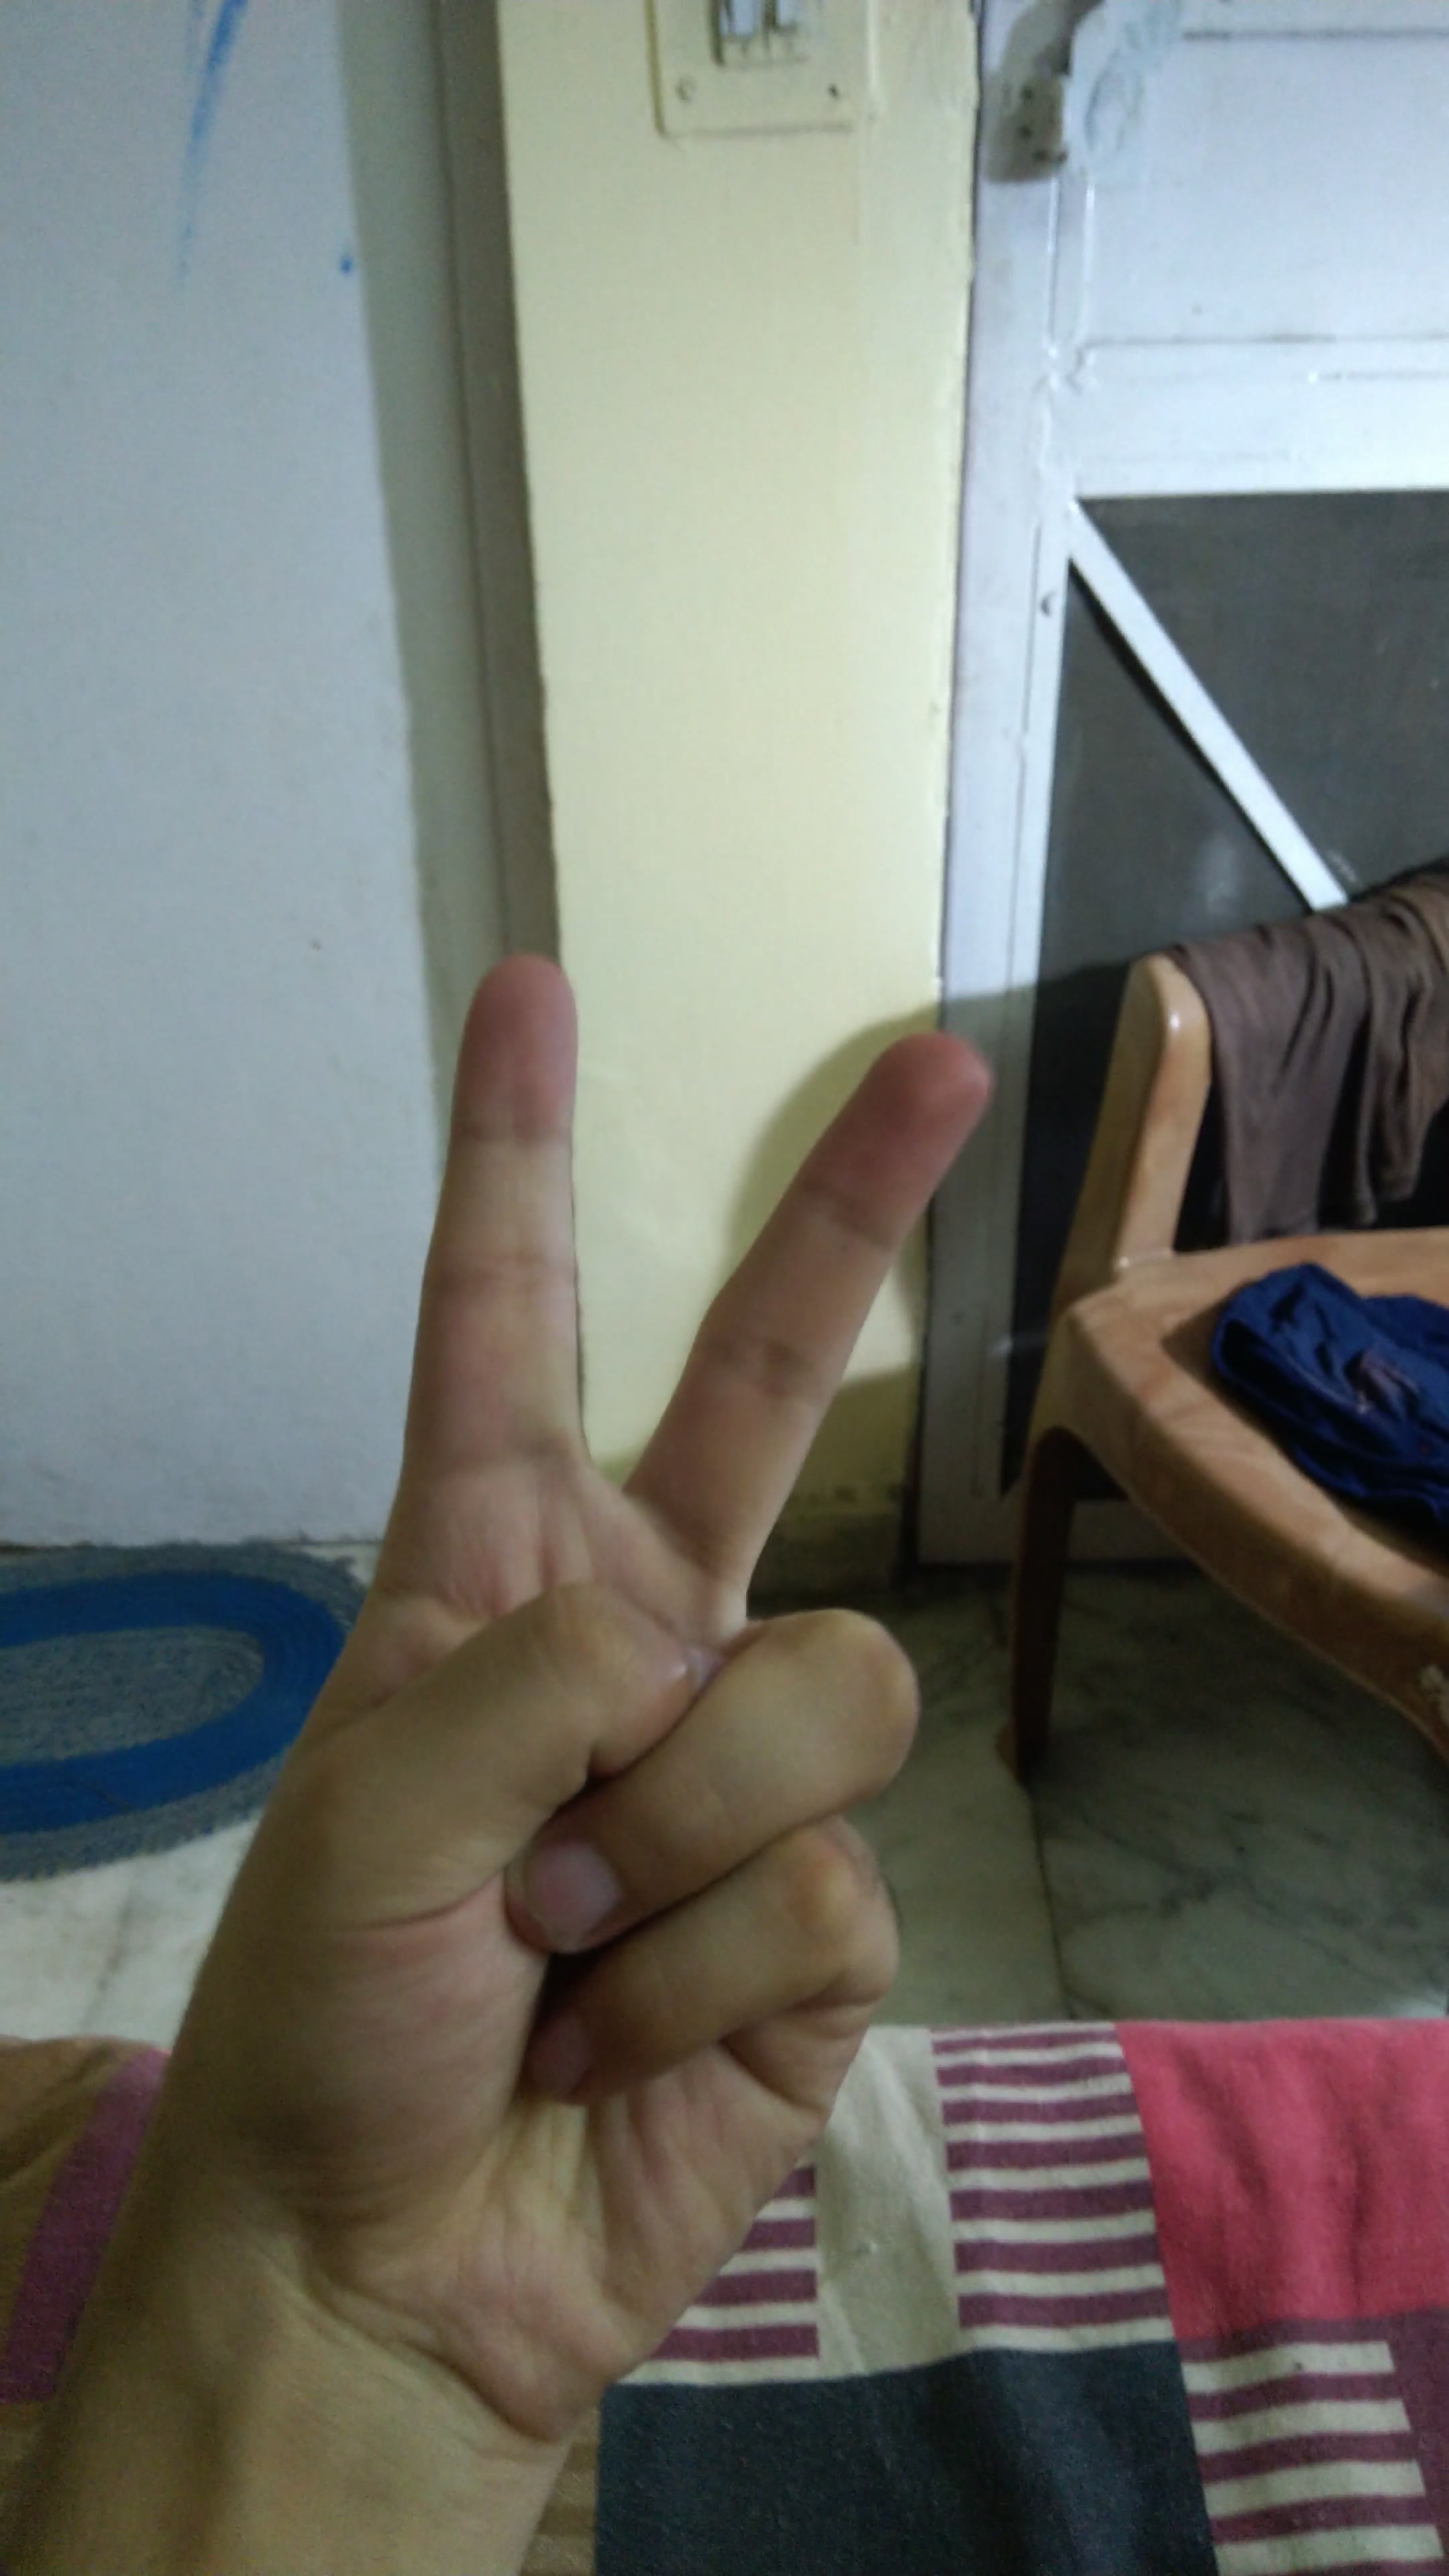hand: (156, 878, 1016, 2410)
